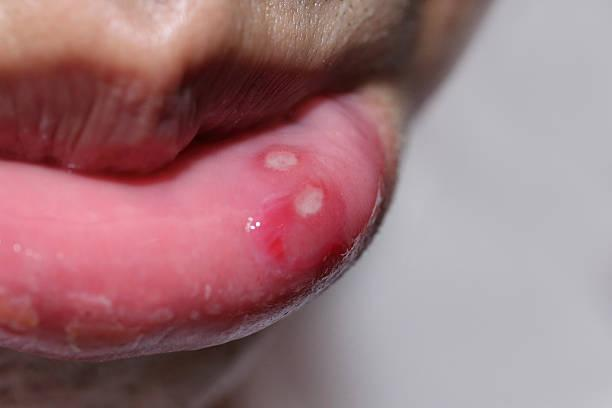Ulcer: (244, 147, 360, 272)
